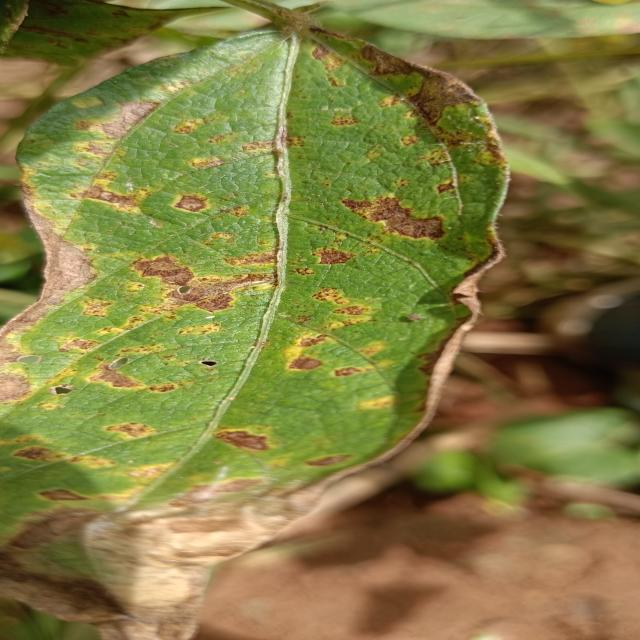Black gram_leaf spot: (0, 17, 526, 640)
